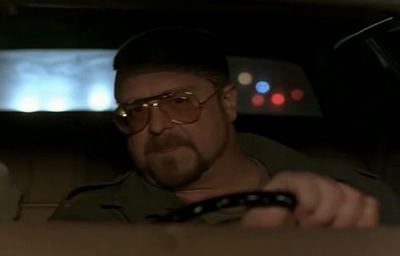cu: (1, 1, 400, 256)
face: (114, 70, 215, 191)
person: (45, 24, 381, 227)
